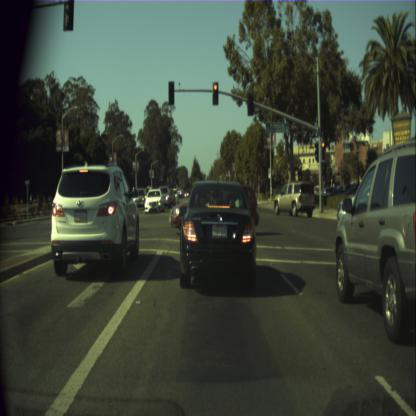Red: (212, 81, 218, 104), (320, 140, 326, 159)
off: (247, 92, 253, 116), (168, 82, 174, 103)
